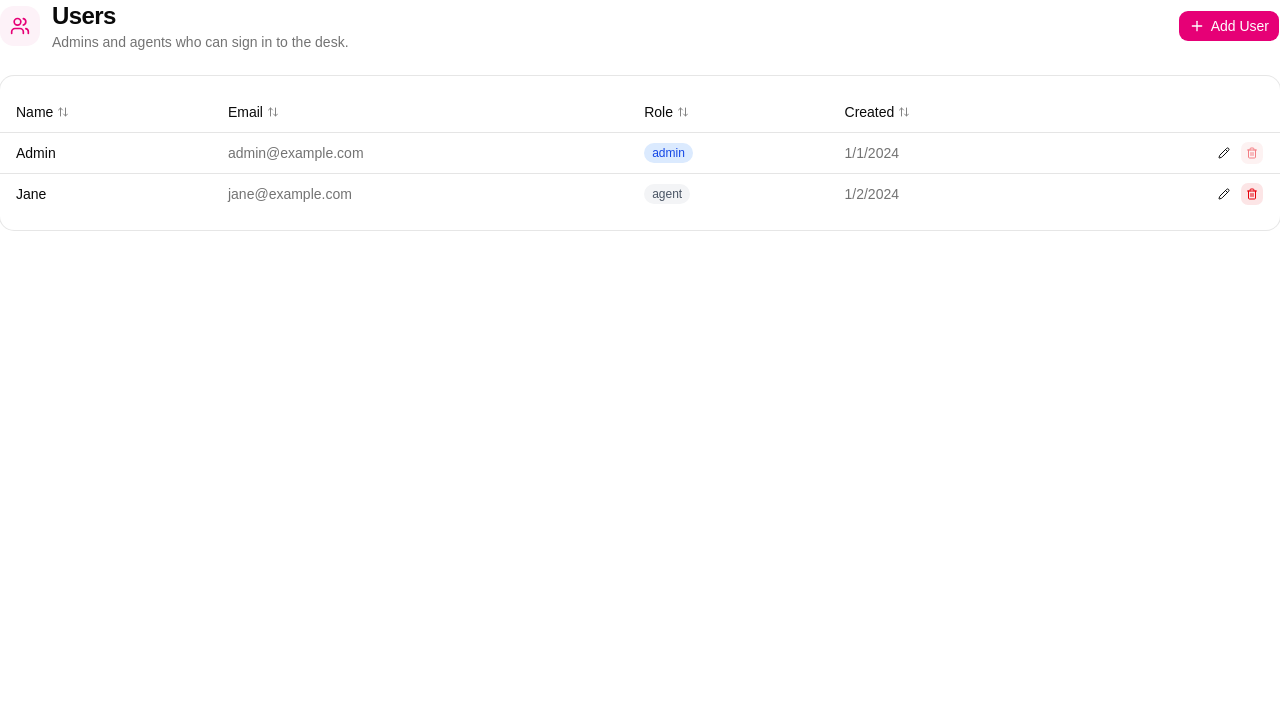
it: Users page › delete › opens a confirmation dialog when the delete button is clicked
The image size is (1280, 720).
Expected: the text "Jane" is shown, [16,186,46,202]
Click the button named "delete user" in the row of "jane@example.com" at {"x": 1252, "y": 194}, box [1240,182,1264,206]
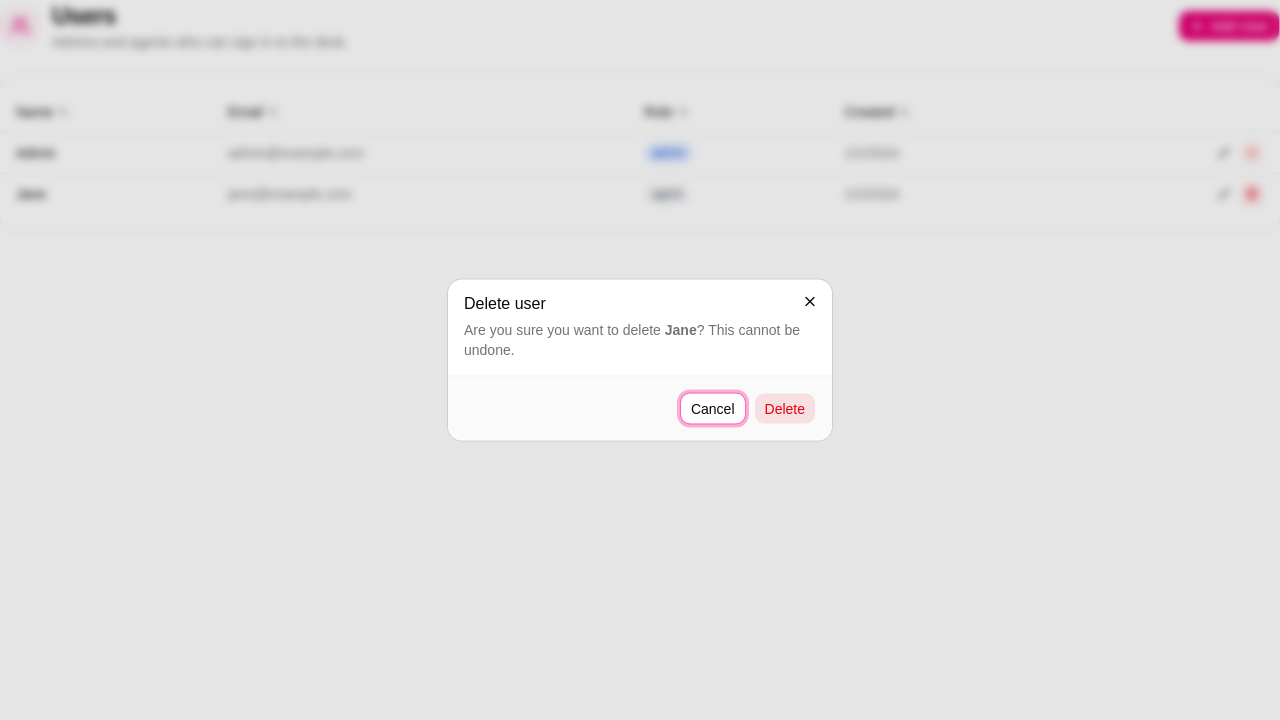
Expected: the dialog is shown, [448,280,832,440]
Expected: the text "Are you sure you want to delete Jane? This cannot be undone." is shown, [464,320,816,360]
